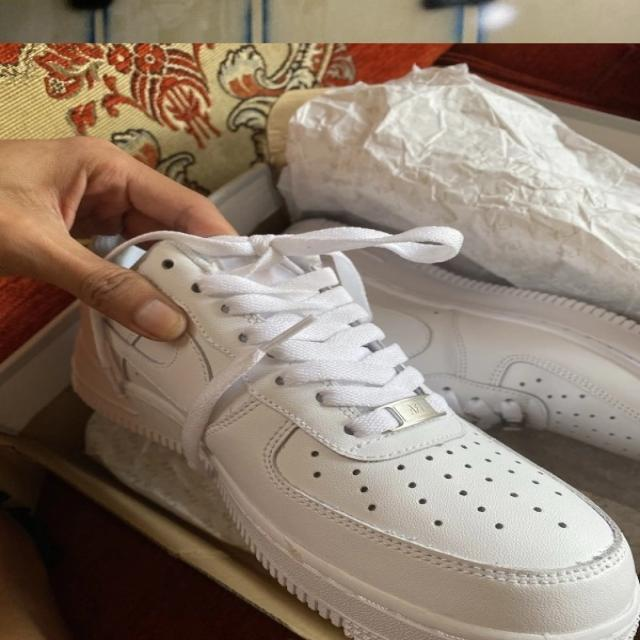nike original air force: (71, 228, 640, 640), (262, 215, 640, 460)
